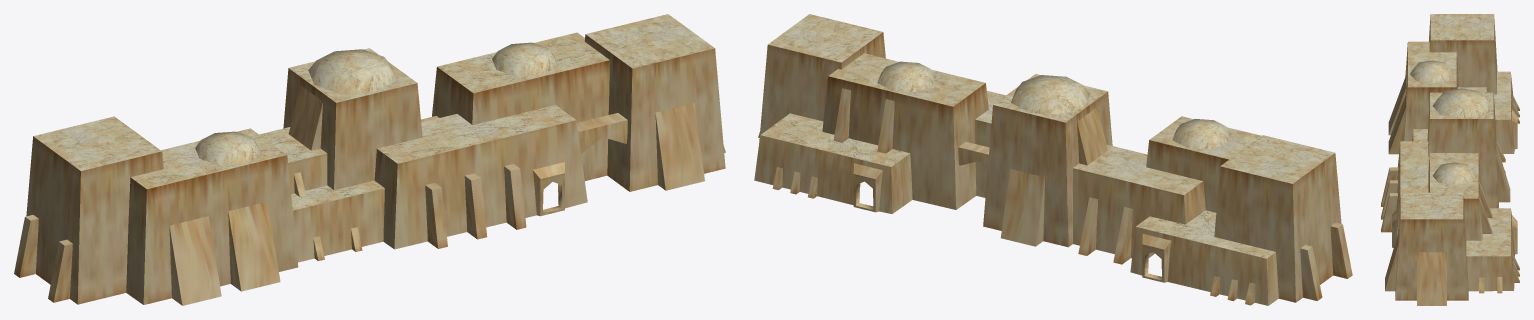
The model's file is thm_tato_block_bldg_64x16_s02_r0_exterior_mesh_l2.fbx.
3 renders of one model, left to right at view 1: azimuth 30°, elevation 25°; view 2: azimuth 150°, elevation 25°; view 3: azimuth 270°, elevation 25°, orthographic. The views are drawn at different scales.
Visible parts, largest first — view 1: mesh_node; view 2: mesh_node; view 3: mesh_node.
Part boxes in pixels (box(x1,y1,x2,y2)): mesh_node: box(14, 14, 725, 305); mesh_node: box(754, 14, 1352, 305); mesh_node: box(1381, 14, 1519, 305).
Size of the model in its own units: 67.12 by 15.05 by 18.41.
